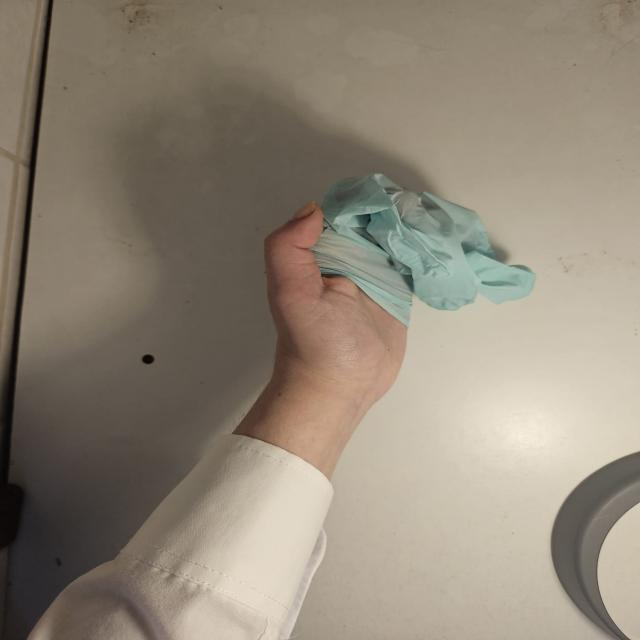glove_partial: (262, 171, 538, 403)
